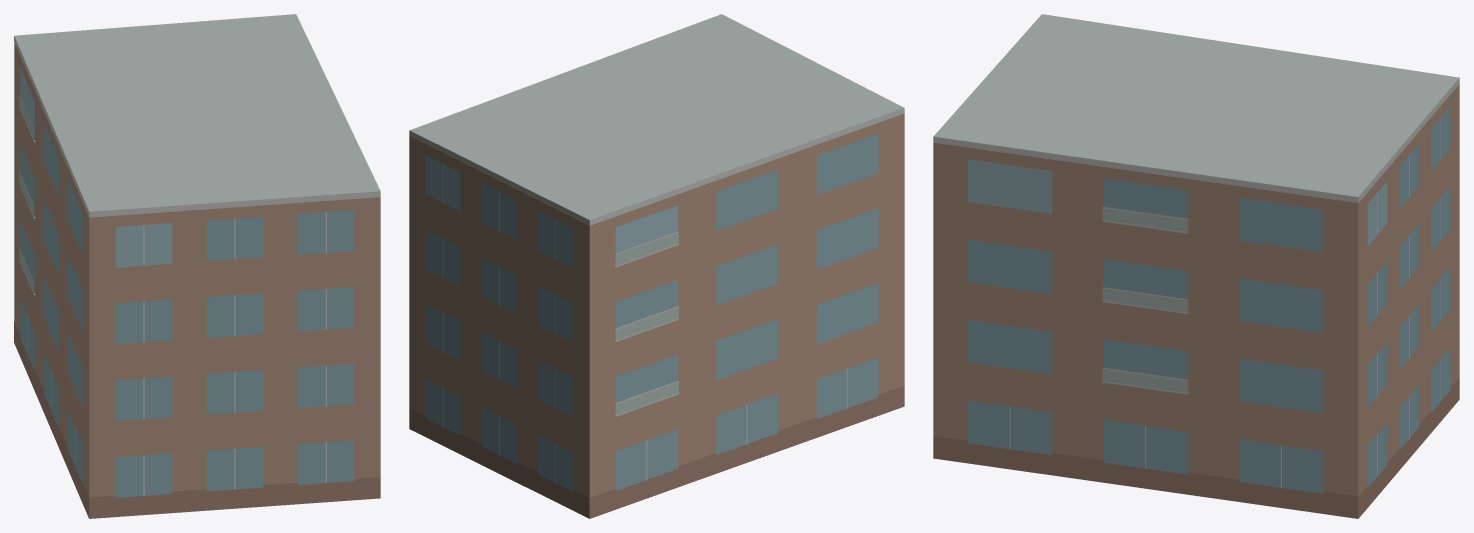
Rendered from survey-upis-32998534.glb.
3 renders of one model, left to right at view 1: azimuth 30°, elevation 25°; view 2: azimuth 150°, elevation 25°; view 3: azimuth 270°, elevation 25°, orthographic. The views are drawn at different scales.
Parts seen in each view (by area): view 1: survey-upis-32998534.tmp; view 2: survey-upis-32998534.tmp; view 3: survey-upis-32998534.tmp.
Boxes of the visible parts, box(x1,y1,x2,y2) form: survey-upis-32998534.tmp: box(14, 14, 380, 518); survey-upis-32998534.tmp: box(409, 14, 904, 518); survey-upis-32998534.tmp: box(933, 14, 1459, 518).
Bounding box in the file's own units: 15.75 × 12.9 × 19.13.
